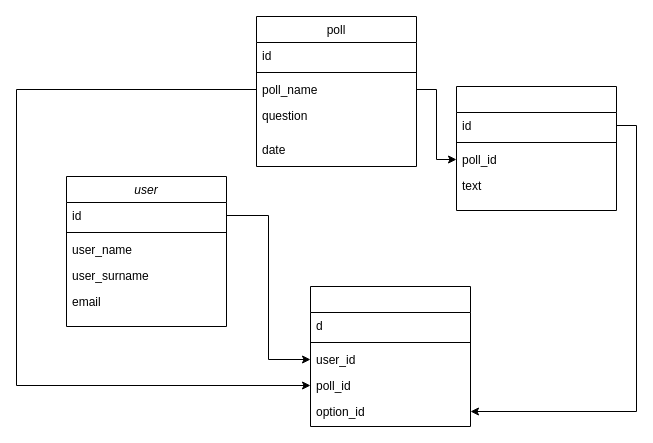
The diagram is 653 pixels wide and 443 high, and some of its shapes have lost their labels. Each missing label, with the box of its shape:
option: (456, 86, 616, 210)
vote: (310, 286, 470, 426)
